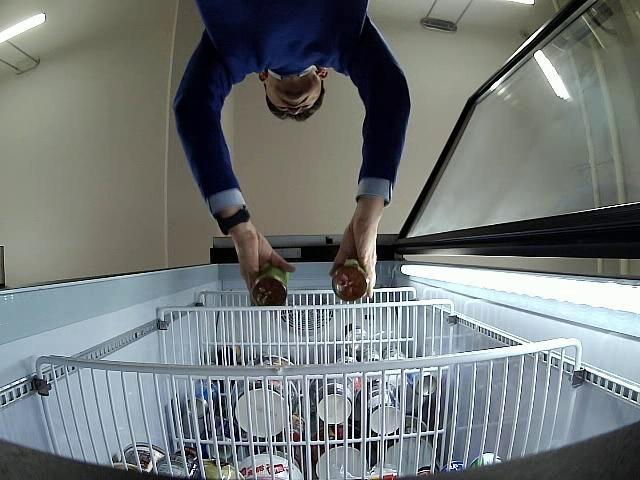19_17cha: (332, 260, 371, 301), (253, 267, 288, 307)
